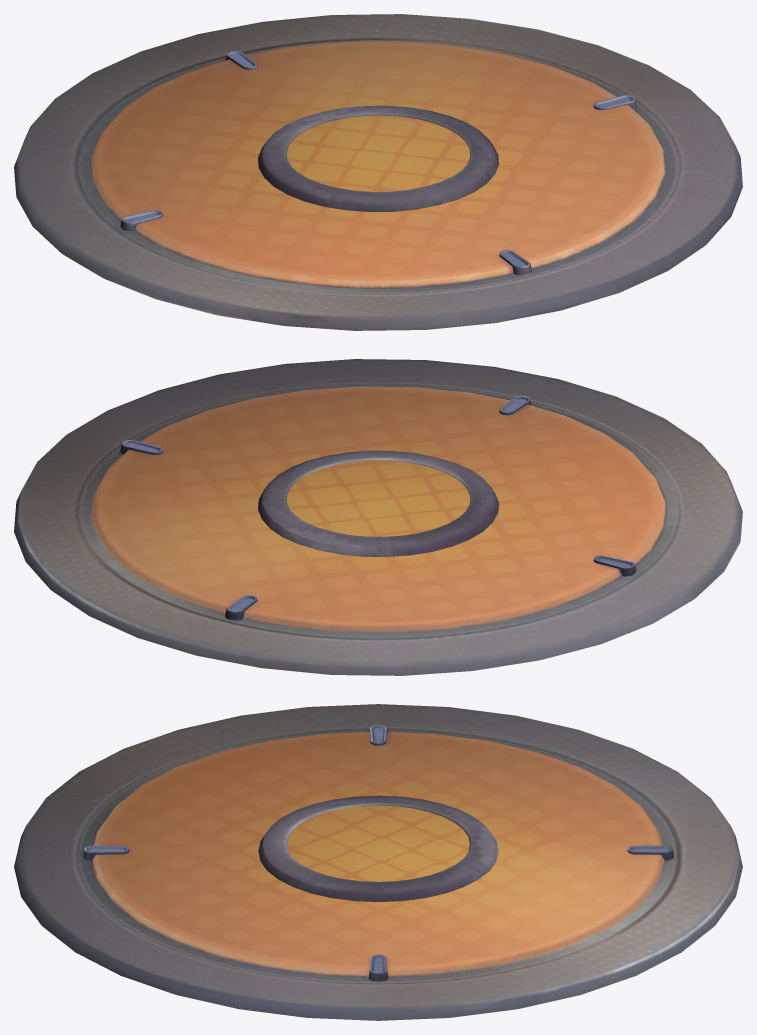
Rendered from pref_TPC_v2_NeutralScoreArea03_orange_static_lv1.fbx.
3 views of the same model, one above another, from view 1: azimuth 30°, elevation 25°; view 2: azimuth 150°, elevation 25°; view 3: azimuth 270°, elevation 25° (orthographic).
Visible parts, largest first — view 1: sm_prop_platform06a_lv1, sm_prop_platform06b_lv1; view 2: sm_prop_platform06a_lv1, sm_prop_platform06b_lv1; view 3: sm_prop_platform06a_lv1, sm_prop_platform06b_lv1.
Boxes of the visible parts, x1=… form: sm_prop_platform06a_lv1: x1=14, y1=14, x2=742, y2=330; sm_prop_platform06b_lv1: x1=258, y1=105, x2=498, y2=211; sm_prop_platform06a_lv1: x1=14, y1=359, x2=742, y2=675; sm_prop_platform06b_lv1: x1=258, y1=450, x2=498, y2=556; sm_prop_platform06a_lv1: x1=14, y1=704, x2=742, y2=1020; sm_prop_platform06b_lv1: x1=258, y1=795, x2=498, y2=901.
Size of the model in its own units: 7.46 by 0.2872 by 7.46.
